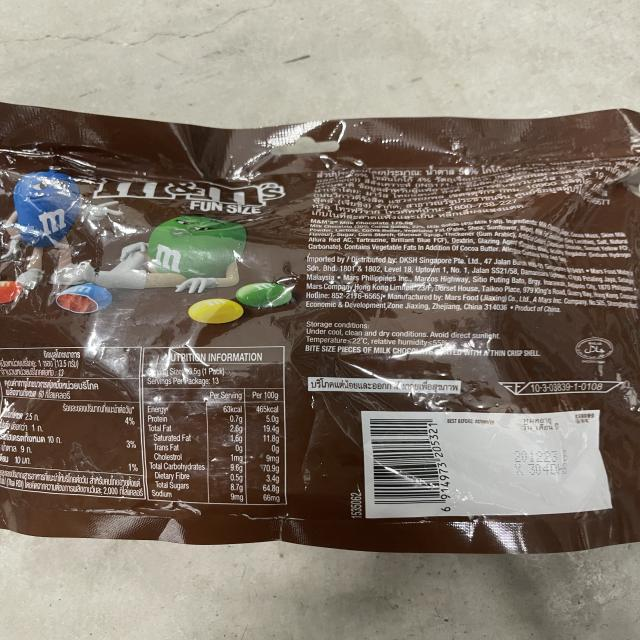object_name: (4, 110, 640, 547)
